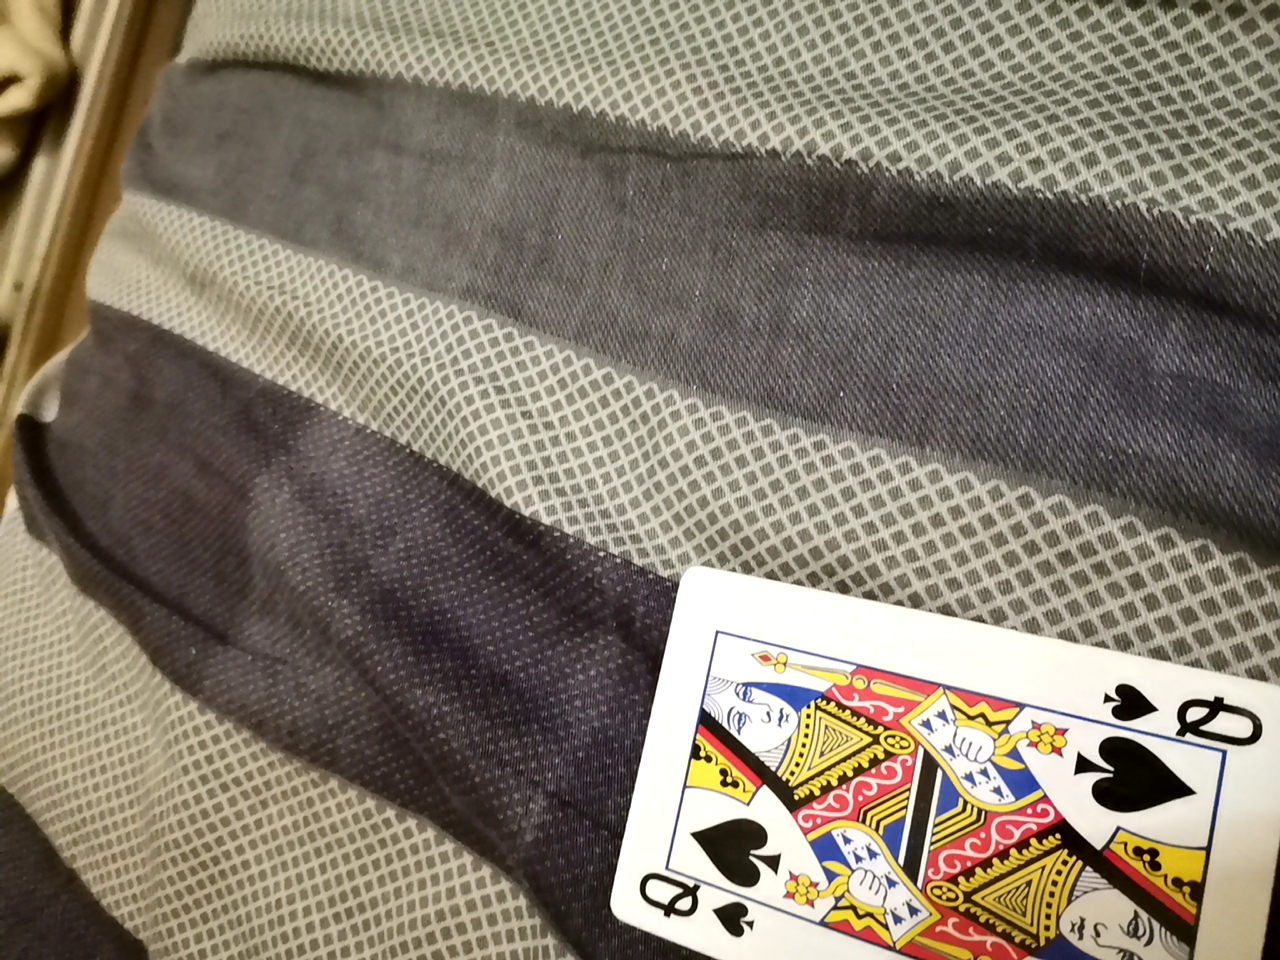ht q: (597, 566, 1271, 959)
